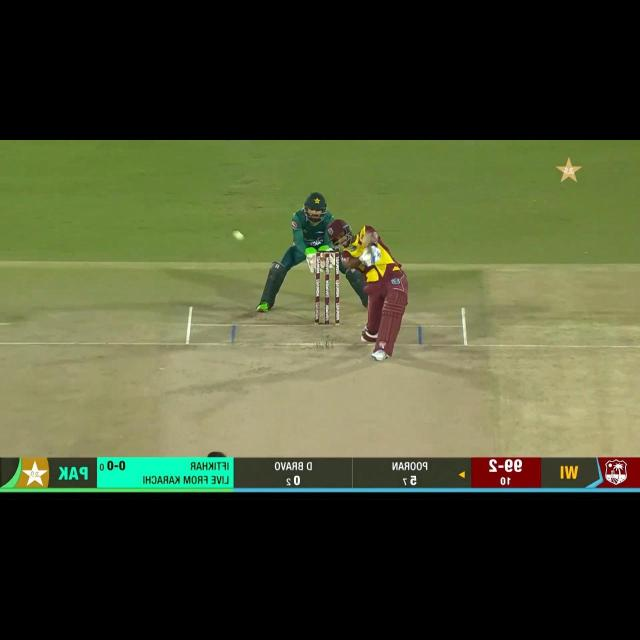bat: (358, 232, 375, 249)
